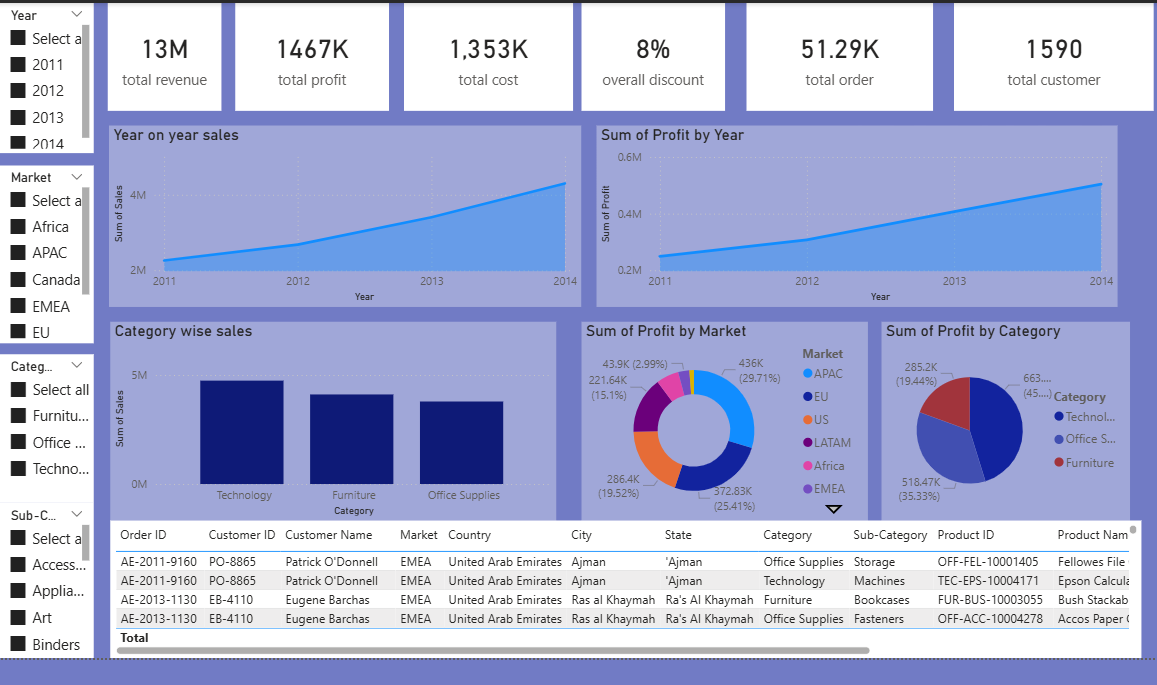

The dashboard page shown, as its layout file describes it:
{"tool":"powerbi","page":{"name":"Page 1","canvas":[1280,720],"ordinal":0},"visuals":[{"type":"slicer","fields":{"Values":["Orders.Order Date.Variation.Date Hierarchy.Year"]},"box":[0,0,104.3,164.7],"z":0},{"type":"slicer","fields":{"Values":["Orders.Market"]},"box":[0,178.4,104.3,194.9],"z":1000},{"type":"slicer","fields":{"Values":["Orders.Sub-Category"]},"box":[0,548.9,104.3,171.5],"z":2000},{"type":"slicer","fields":{"Values":["Orders.Category"]},"box":[0,385.6,104.3,163.3],"z":3000},{"type":"card","fields":{"Values":["Orders.total revenue"]},"box":[119.4,0,124.9,118],"z":4000},{"type":"clusteredColumnChart","title":"Category wise sales","fields":{"Category":["Orders.Category"],"Y":["Sum(Orders.Sales)"]},"box":[122.1,349.9,489.9,218.2],"z":5000},{"type":"pieChart","fields":{"Category":["Orders.Category"],"Y":["Sum(Orders.Profit)"]},"box":[968.8,349.9,273.1,218.2],"z":6000},{"type":"donutChart","fields":{"Category":["Orders.Market"],"Y":["Sum(Orders.Profit)"]},"box":[639.5,349.9,314.2,218.2],"z":7000},{"type":"card","fields":{"Values":["Orders.total profit"]},"box":[259.3,0,168.8,118],"z":7001},{"type":"card","fields":{"Values":["Orders.total cost"]},"box":[444.6,0,185.2,118],"z":7002},{"type":"card","fields":{"Values":["Orders.total discount"]},"box":[639.5,0,157.8,118],"z":7003},{"type":"card","fields":{"Values":["Orders.total order"]},"box":[820.6,0,204.5,118],"z":7004},{"type":"card","fields":{"Values":["Orders.total customer"]},"box":[1048.4,0,219.6,118],"z":7005},{"type":"areaChart","title":"Year on year sales","fields":{"Category":["Orders.Order Date.Variation.Date Hierarchy.Year"],"Y":["Sum(Orders.Sales)"]},"box":[120.8,134.5,518.7,199],"z":7006},{"type":"areaChart","fields":{"Category":["Orders.Order Date.Variation.Date Hierarchy.Year"],"Y":["Sum(Orders.Profit)"]},"box":[655.9,134.5,572.2,199],"z":7007},{"type":"tableEx","fields":{"Values":["Orders.Order ID","Orders.Customer ID","Orders.Customer Name","Orders.Market","Orders.Country","Orders.City","Orders.State","Orders.Category","Orders.Sub-Category","Orders.Product ID","Orders.Product Name","Sum(Orders.Quantity)"]},"box":[122.1,568.1,1132.1,152.3],"z":7008}]}

Visuals, with their boxes on the page's 1280x720 design canvas (x1, y1, x2, y2). These are canvas units, not pixel positions in the 1157x685 screenshot, which may show the page scaled, cropped or inside an application window:
slicer - Orders.Order Date.Variation.Date Hierarchy.Year: 0,0,104,165
slicer - Orders.Market: 0,178,104,373
slicer - Orders.Sub-Category: 0,549,104,720
slicer - Orders.Category: 0,386,104,549
card - Orders.total revenue: 119,0,244,118
"Category wise sales" clusteredColumnChart: 122,350,612,568
pieChart - Orders.Category x Sum(Orders.Profit): 969,350,1242,568
donutChart - Orders.Market x Sum(Orders.Profit): 640,350,954,568
card - Orders.total profit: 259,0,428,118
card - Orders.total cost: 445,0,630,118
card - Orders.total discount: 640,0,797,118
card - Orders.total order: 821,0,1025,118
card - Orders.total customer: 1048,0,1268,118
"Year on year sales" areaChart: 121,134,640,334
areaChart - Orders.Order Date.Variation.Date Hierarchy.Year x Sum(Orders.Profit): 656,134,1228,334
tableEx - Orders.Order ID x Orders.Customer ID: 122,568,1254,720
